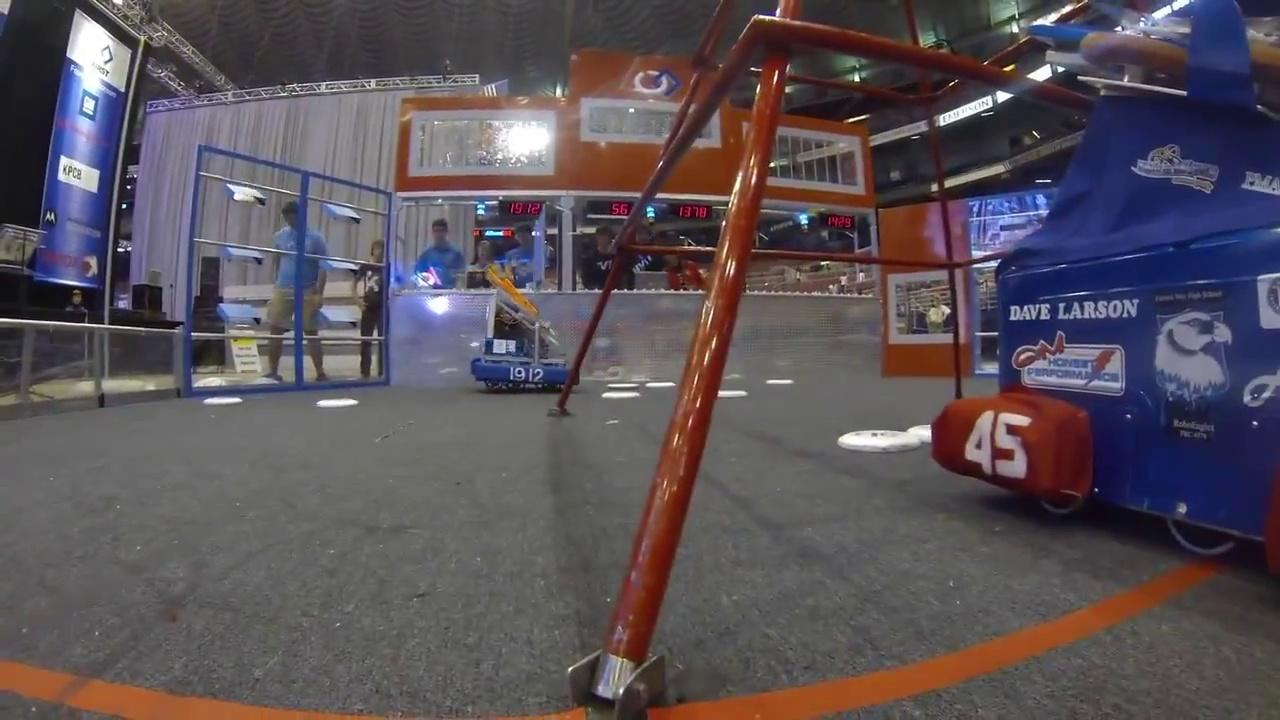robot: (926, 0, 1280, 588), (466, 260, 585, 394)
